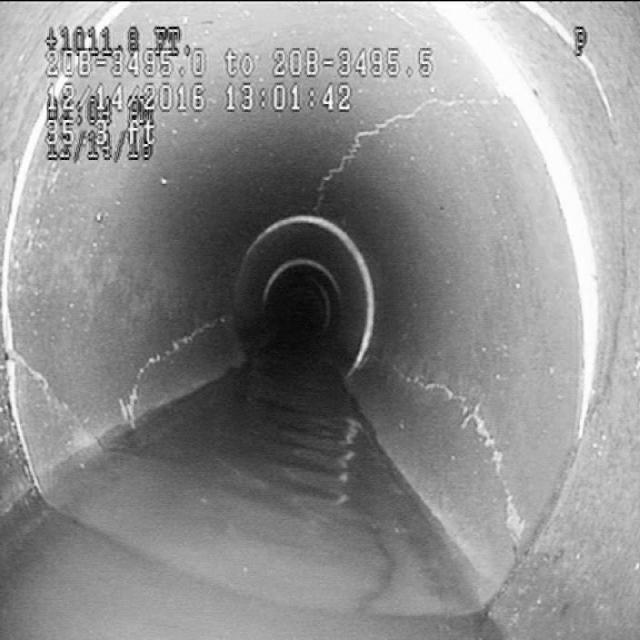Fracture: (1, 318, 238, 442), (384, 347, 530, 522), (315, 90, 463, 210)
